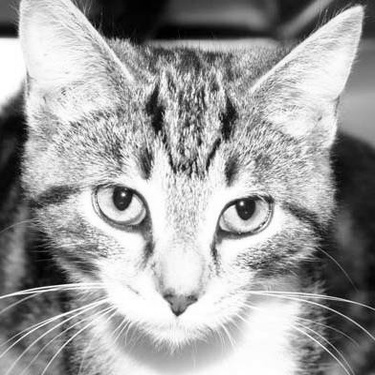cat: (4, 1, 365, 364)
